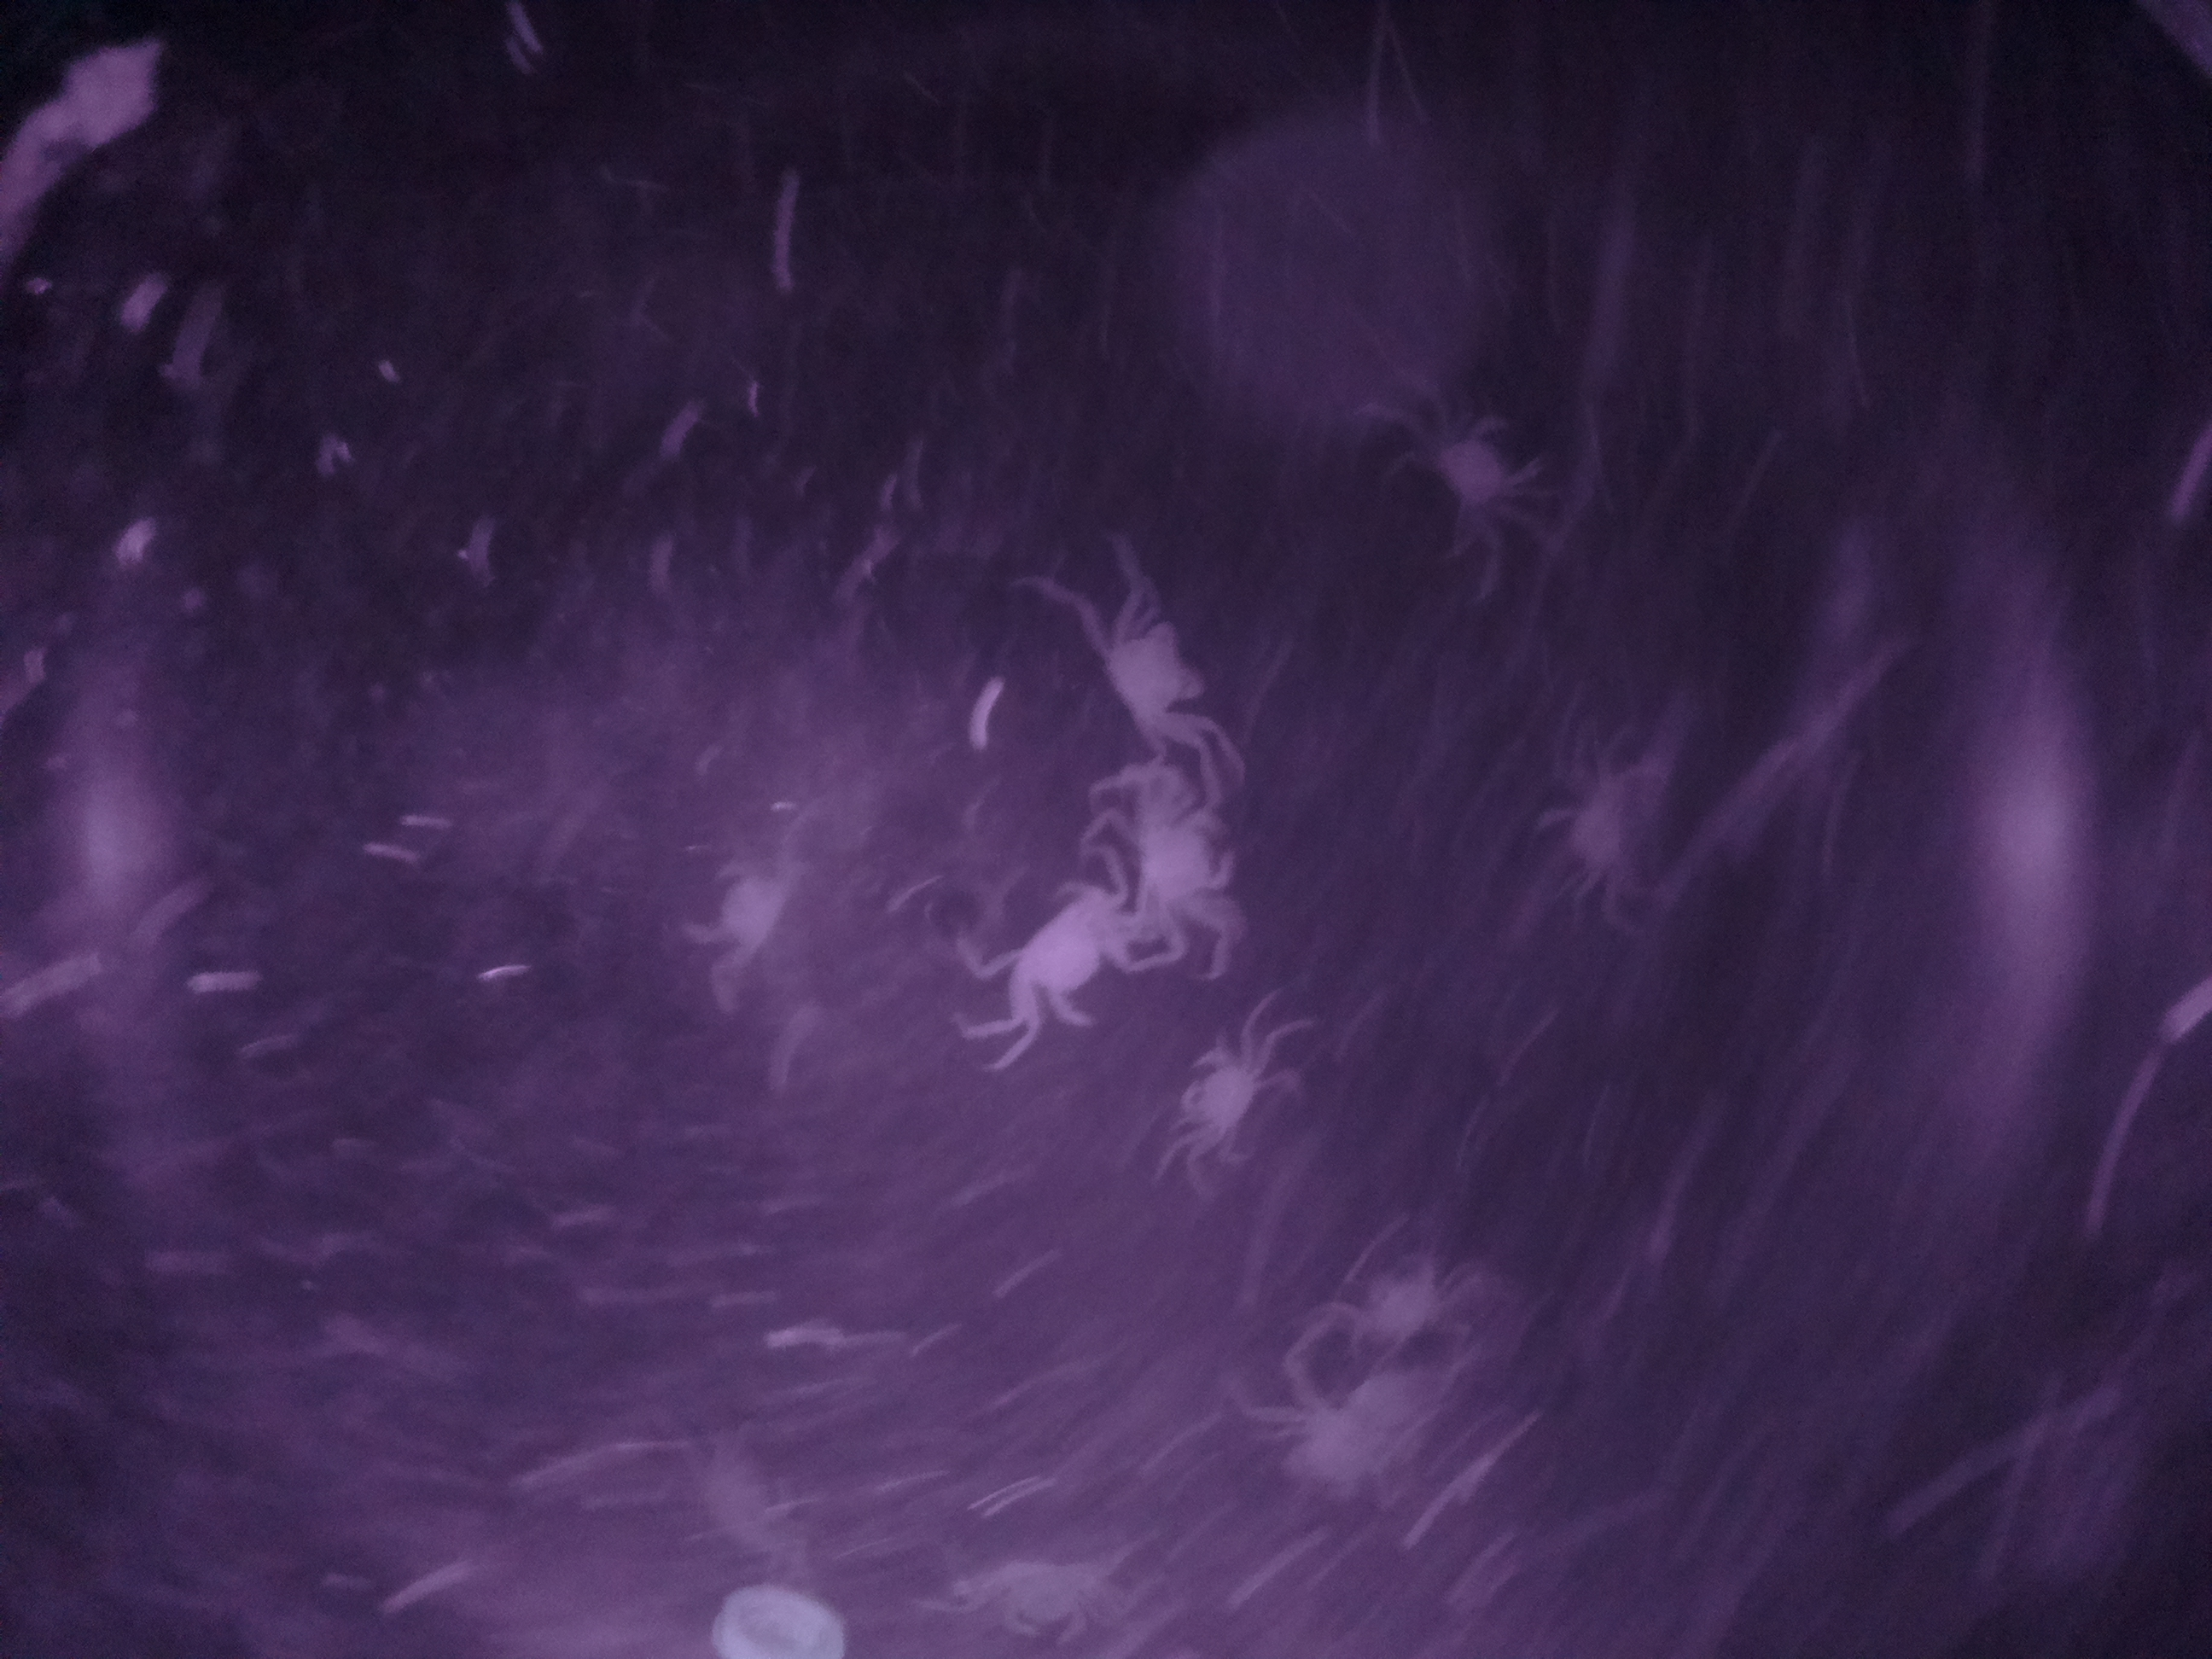Crab: (967, 866, 1169, 1053), (1062, 577, 1247, 763), (1144, 1006, 1317, 1183)
